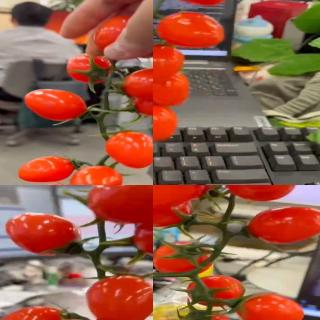tomato: (5, 212, 83, 256), (247, 201, 320, 247), (84, 275, 153, 320), (155, 10, 228, 48), (90, 185, 153, 226), (23, 88, 89, 121), (232, 290, 304, 320), (153, 242, 216, 274), (104, 130, 153, 168), (16, 155, 79, 183), (186, 274, 245, 302), (153, 188, 196, 226), (65, 52, 114, 85), (153, 185, 211, 211), (227, 185, 301, 204), (153, 70, 190, 106), (153, 44, 183, 84), (68, 164, 123, 185), (121, 68, 153, 103), (130, 210, 153, 258), (153, 103, 178, 143), (0, 306, 66, 320), (131, 85, 153, 117), (181, 310, 233, 320)
